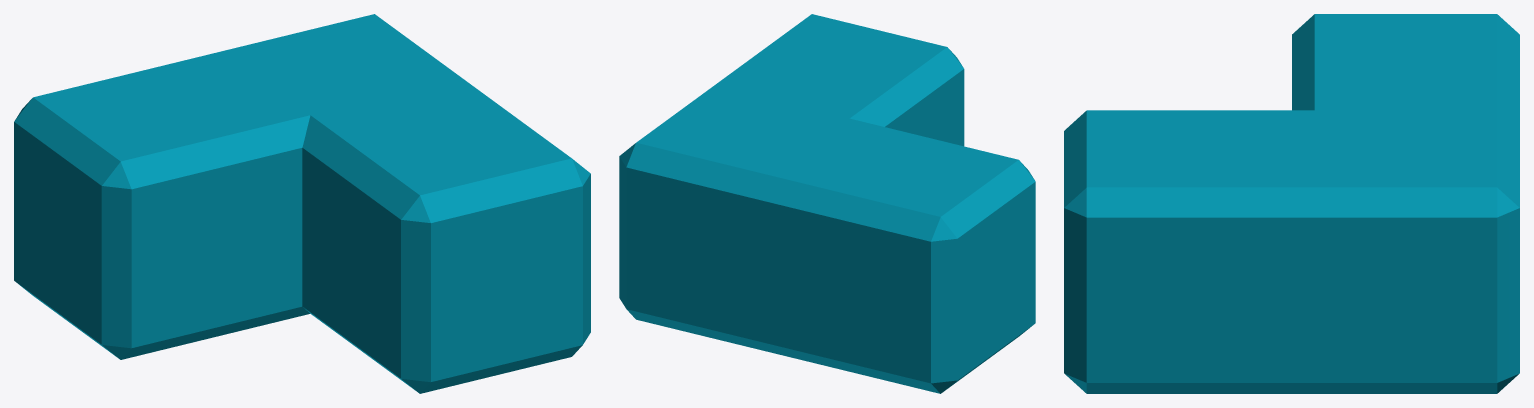
The model's file is LUBAN S.glb.
The picture shows the model from 3 angles, left to right: view 1: azimuth 30°, elevation 25°; view 2: azimuth 150°, elevation 25°; view 3: azimuth 270°, elevation 25°; orthographic projection. The views are drawn at different scales.
Parts seen in each view (by area): view 1: Mesh_Mesh_head_geo.001_lambert2SG.001; view 2: Mesh_Mesh_head_geo.001_lambert2SG.001; view 3: Mesh_Mesh_head_geo.001_lambert2SG.001.
Boxes of the visible parts, x1,y1,x2,y2 form: Mesh_Mesh_head_geo.001_lambert2SG.001: [14, 14, 590, 393]; Mesh_Mesh_head_geo.001_lambert2SG.001: [619, 14, 1035, 393]; Mesh_Mesh_head_geo.001_lambert2SG.001: [1064, 14, 1519, 393].
Size of the model in its own units: 0.04 by 0.02 by 0.04.
